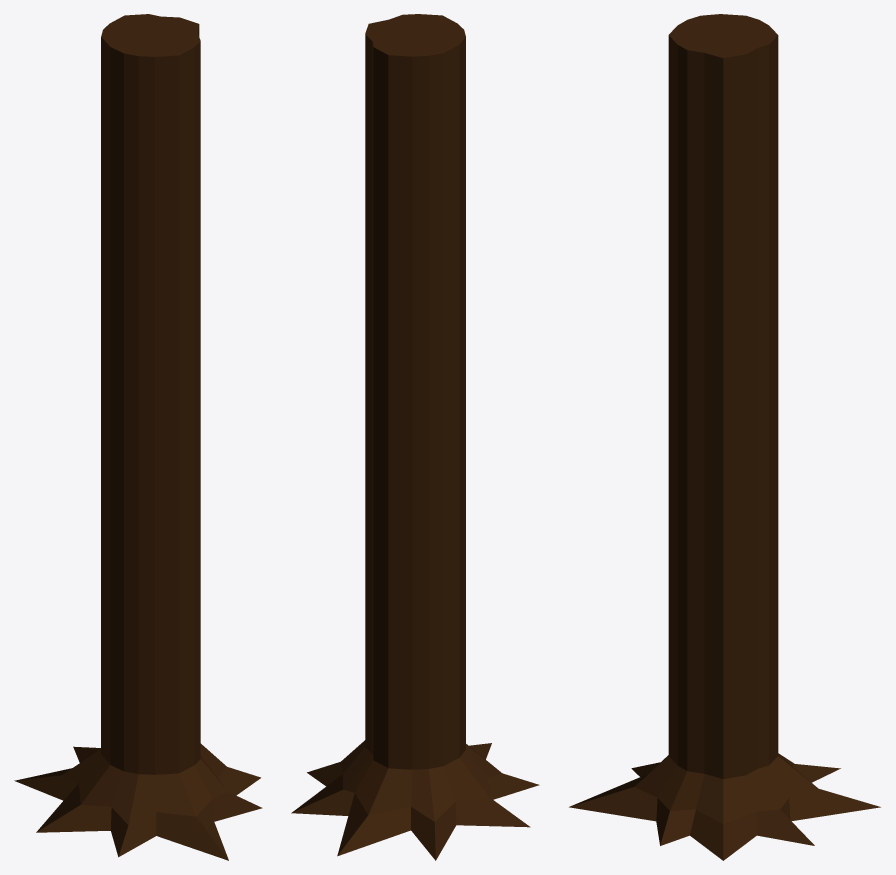
Rendered from Trunk_01.fbx.
3 views of the same model, side by side, from view 1: azimuth 30°, elevation 25°; view 2: azimuth 150°, elevation 25°; view 3: azimuth 270°, elevation 25° (orthographic).
Visible parts, largest first — view 1: Trunk_01; view 2: Trunk_01; view 3: Trunk_01.
Part boxes in pixels (x1,y1,x2,y2): Trunk_01: [14, 14, 262, 860]; Trunk_01: [291, 14, 539, 860]; Trunk_01: [569, 14, 880, 860].
Size of the model in its own units: 533 by 1734 by 638.
